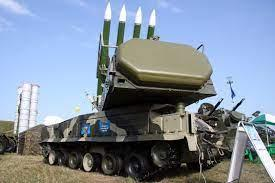rszo: (41, 1, 228, 178)
